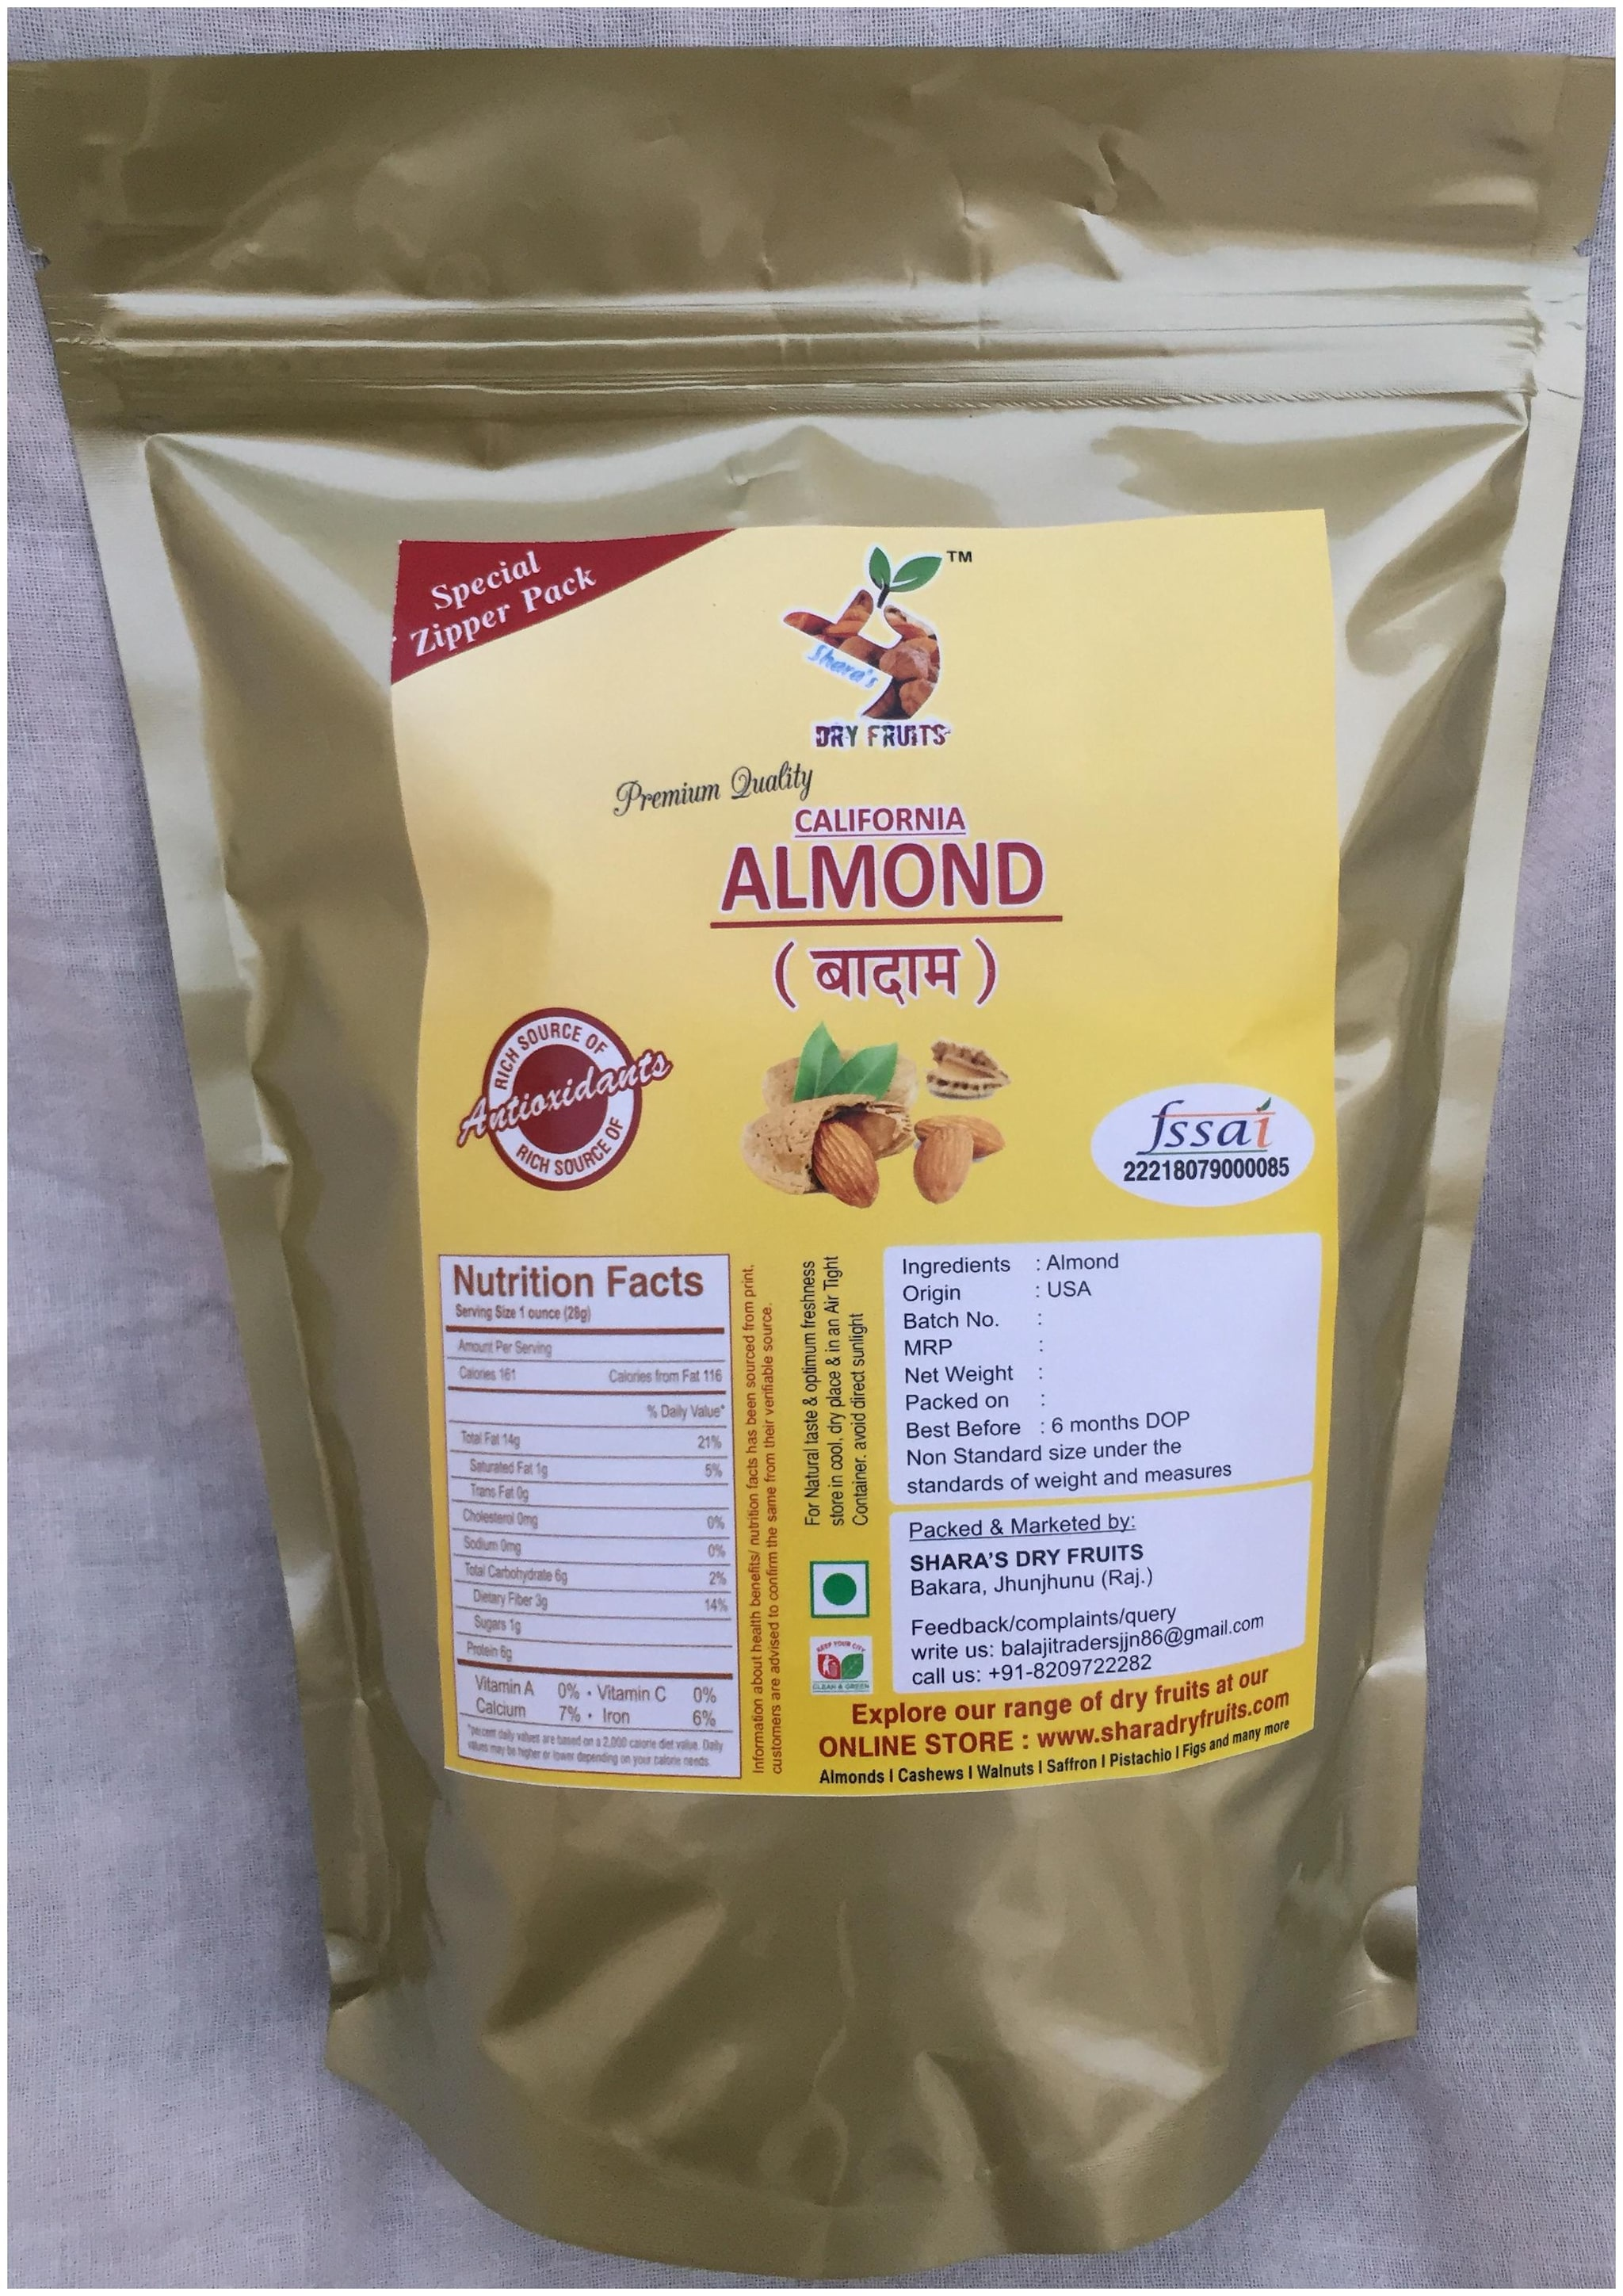fssai: (1136, 1098, 1273, 1156)
